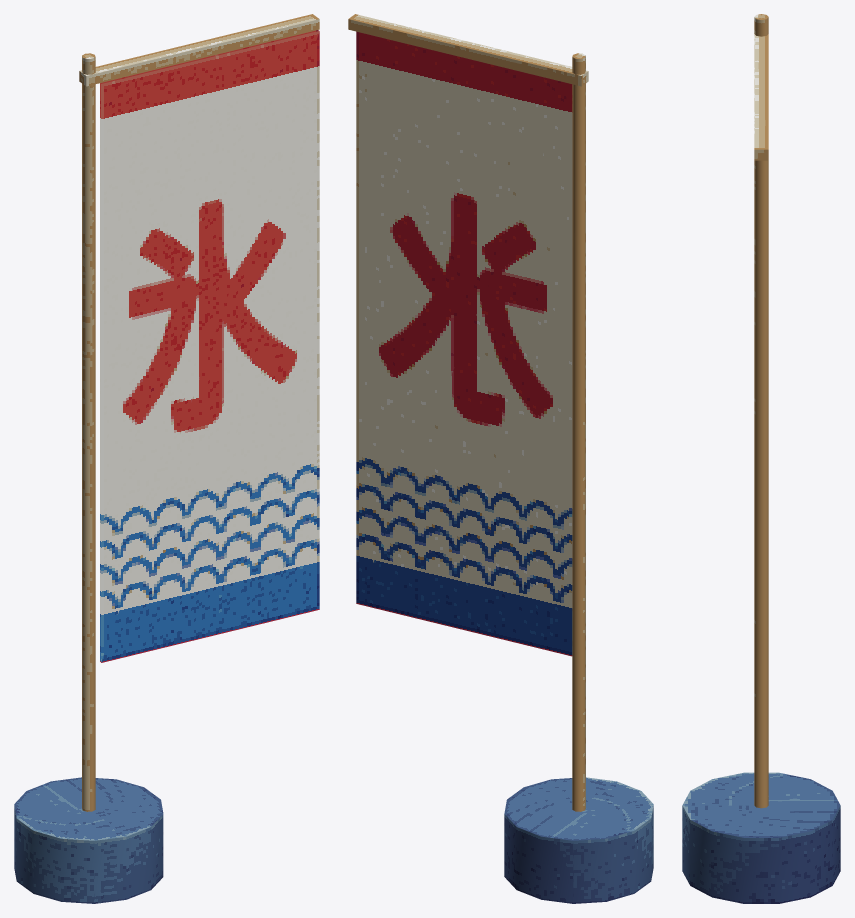
The model's file is kakigori.glb.
3 views of the same model, side by side, from view 1: azimuth 30°, elevation 25°; view 2: azimuth 150°, elevation 25°; view 3: azimuth 270°, elevation 25° (orthographic). The views are drawn at different scales.
Parts seen in each view (by area): view 1: mesh; view 2: mesh; view 3: mesh.
Boxes of the visible parts, <box> form: mesh: <box>14,14,319,903</box>; mesh: <box>348,14,653,903</box>; mesh: <box>682,14,840,903</box>.
Bounding box in the file's own units: 0.5768 × 1.54 × 0.2591.
1 material, 1 textured.
